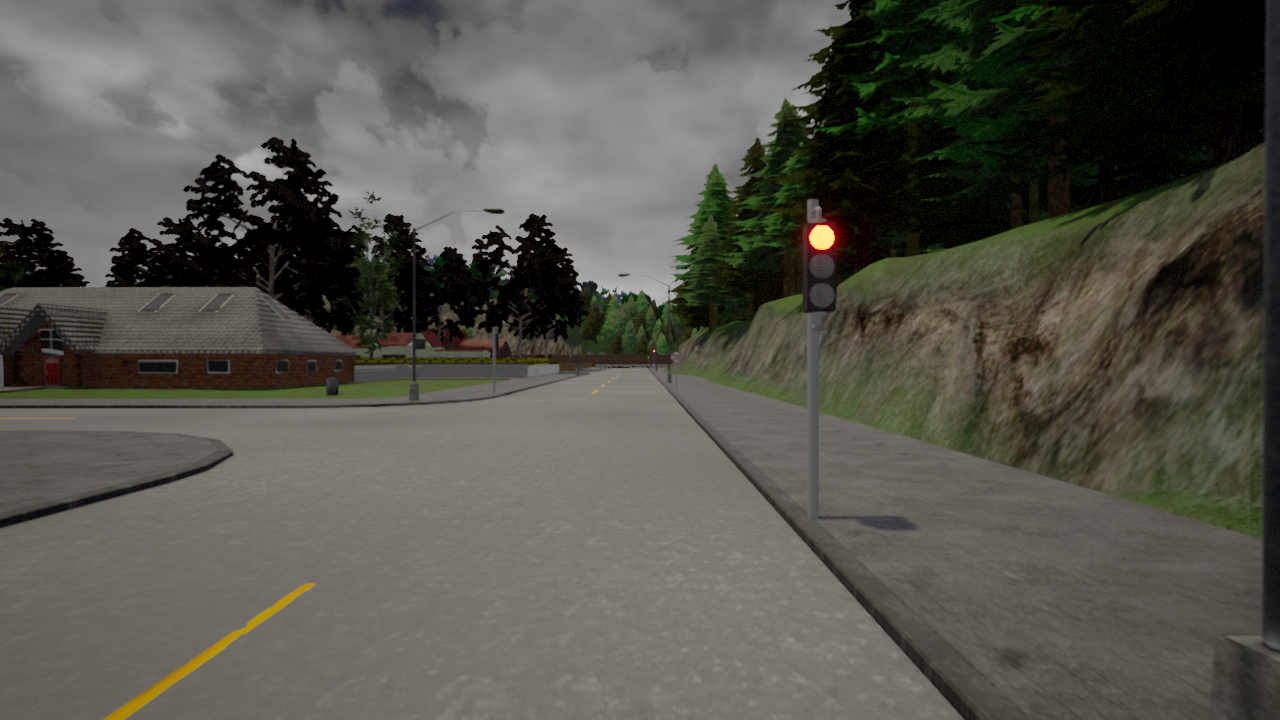red: (800, 219, 839, 315)
